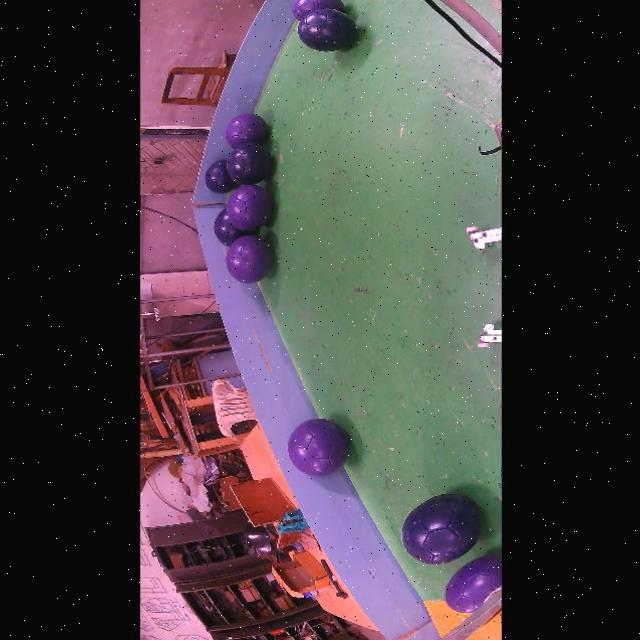B: (402, 493, 482, 565), (288, 419, 349, 476), (297, 8, 357, 52), (226, 142, 271, 185), (214, 209, 258, 247), (205, 160, 237, 194)
